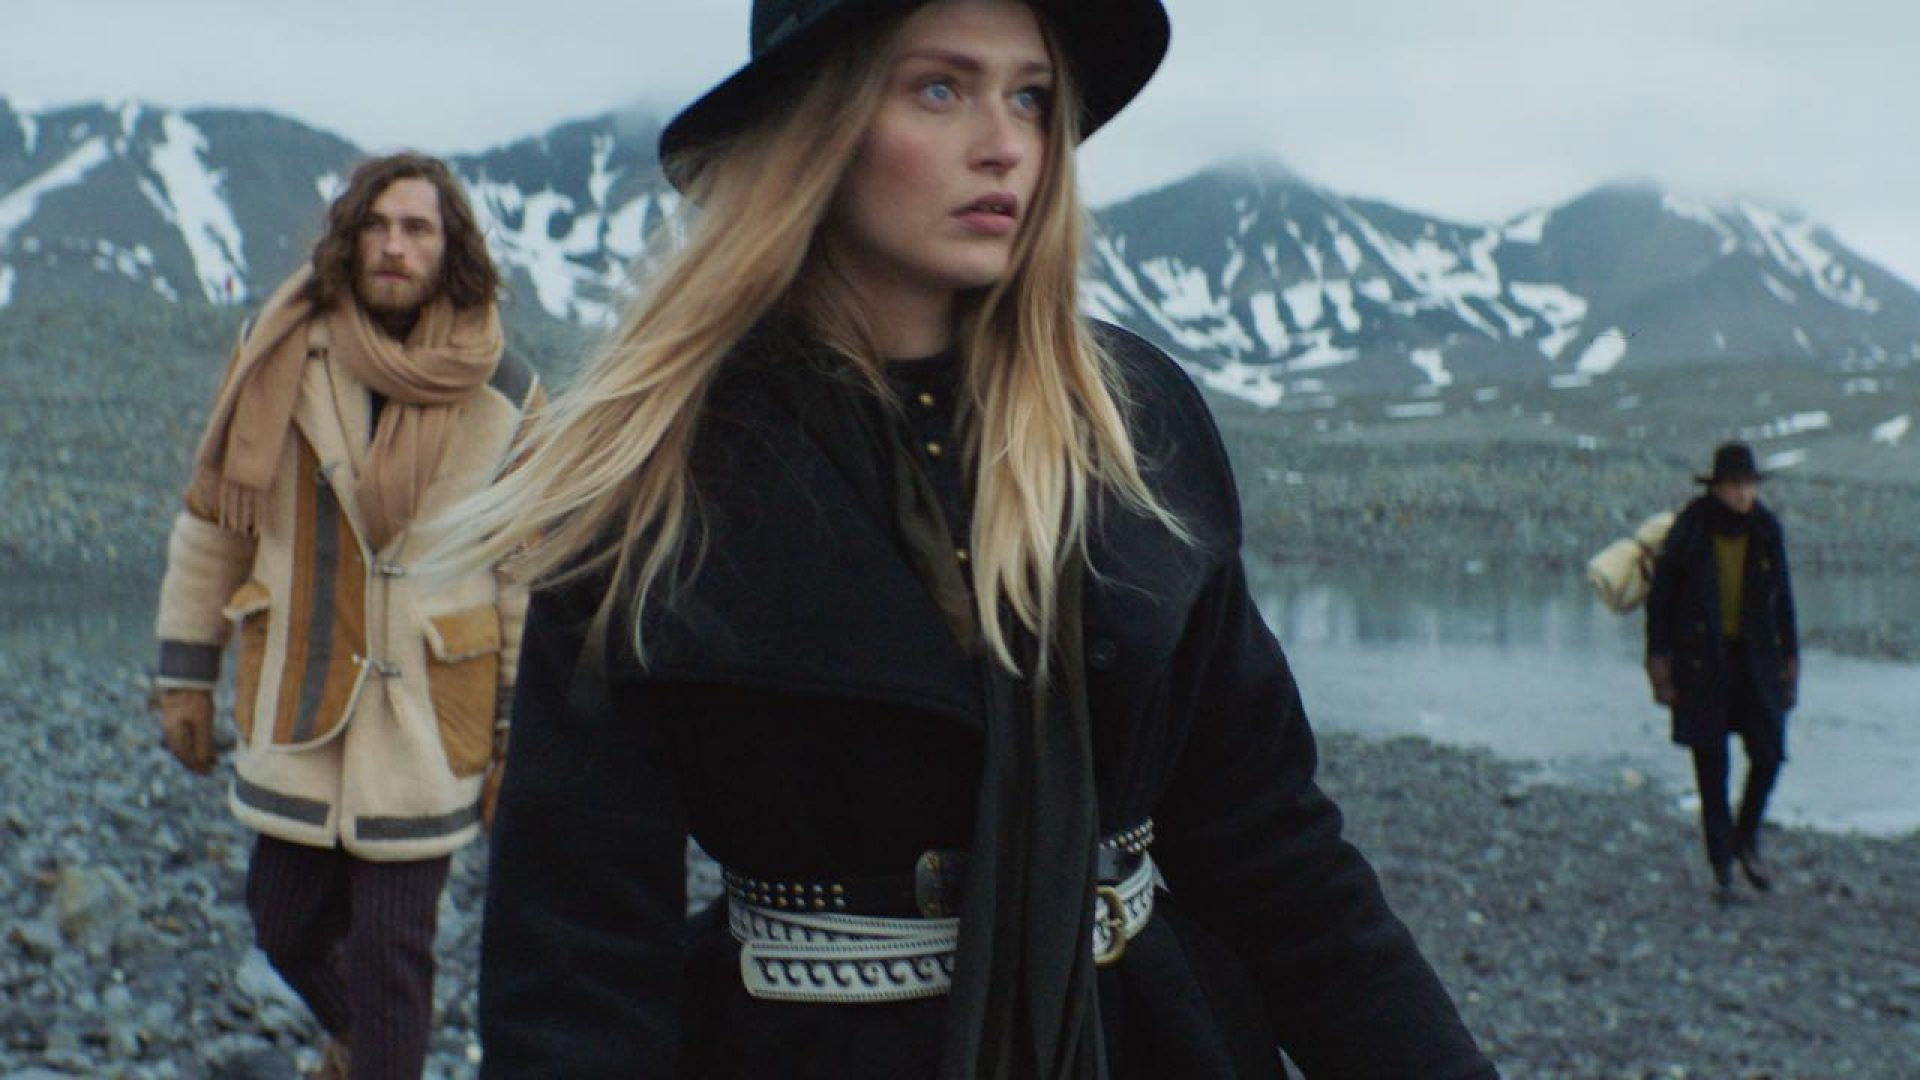Person: (491, 1, 1498, 1078), (158, 148, 525, 1080)
